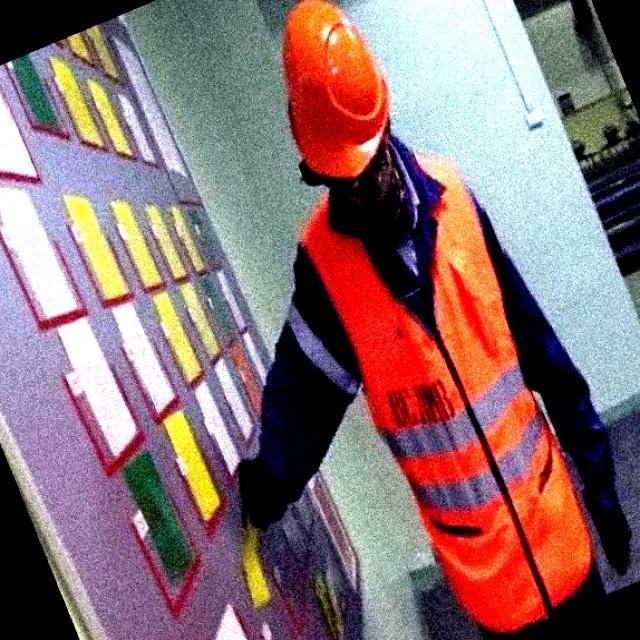helmet: (237, 13, 408, 185)
safety_vest: (272, 186, 624, 614)
